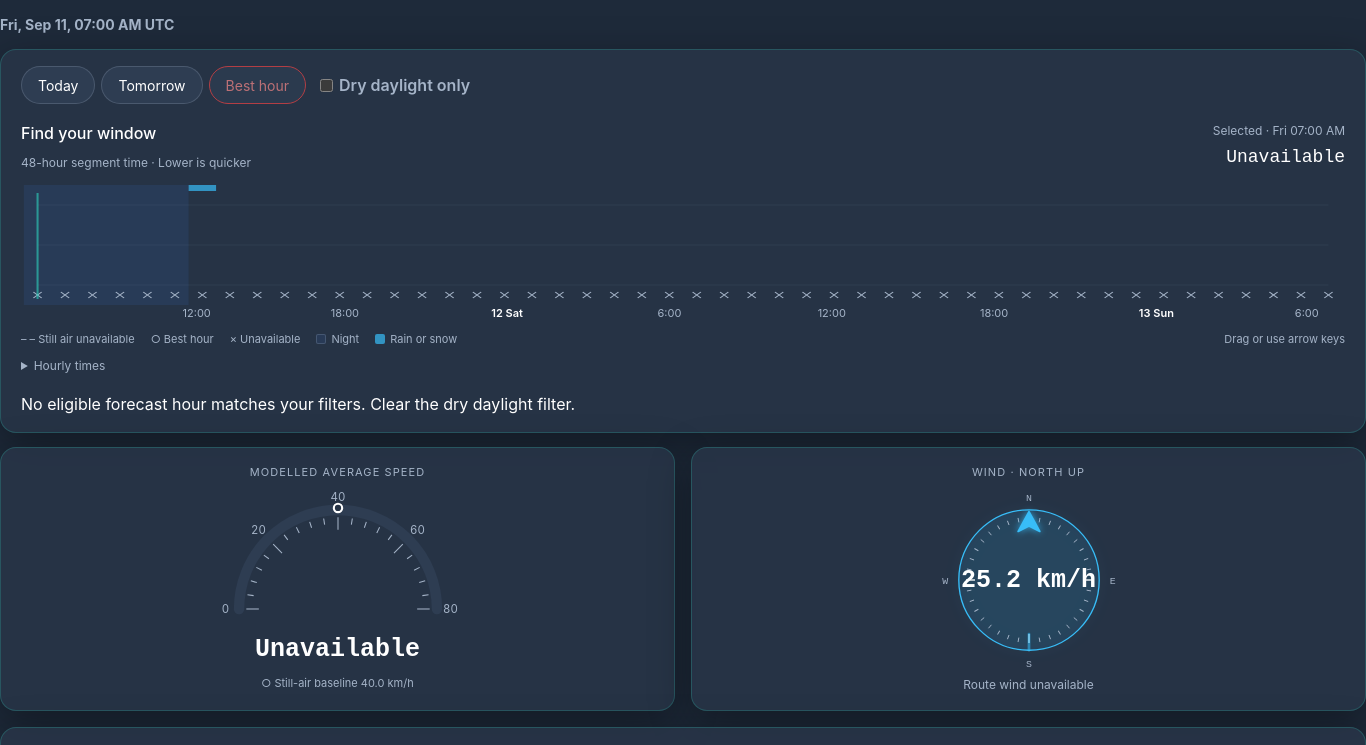
Test: hourly table: rain and night are named
Step 1. Click the heading "Hourly times" → (70, 366), box [34,358,105,374]
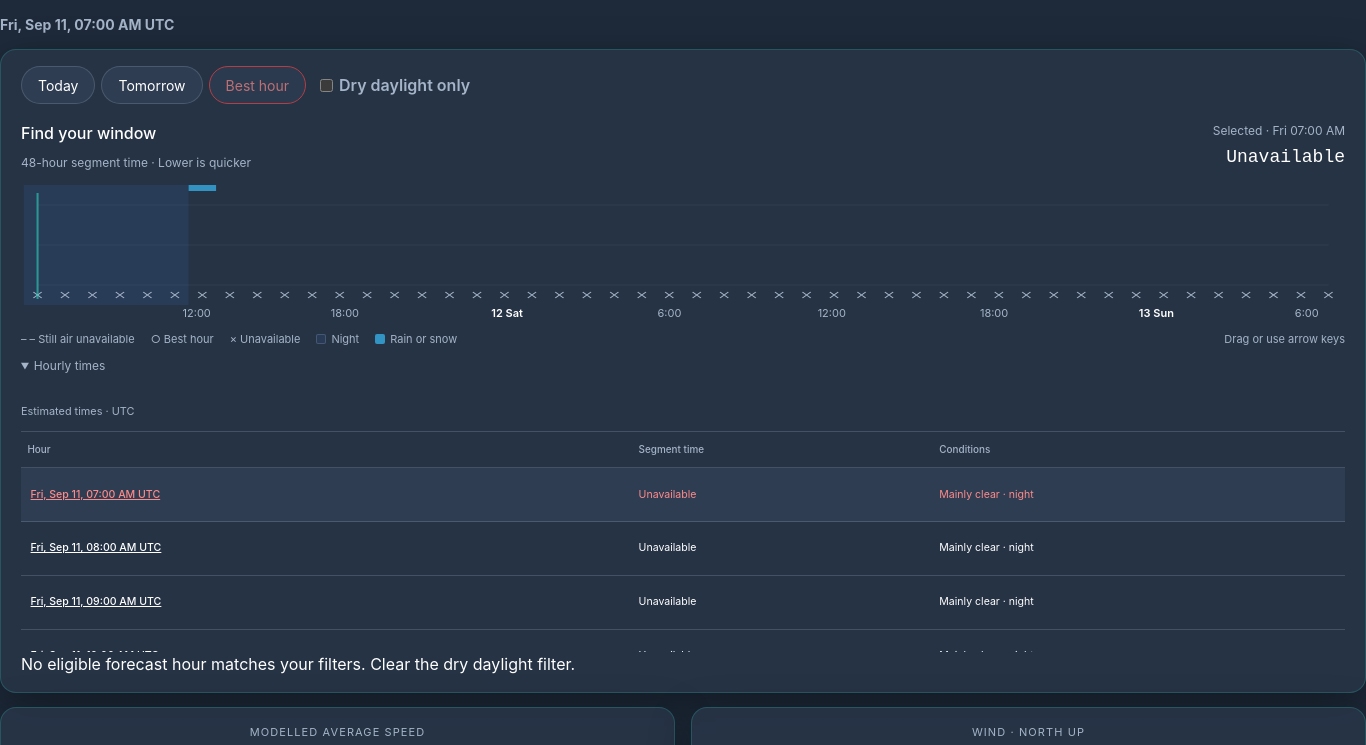
Check: the 1st cell "Mainly clear · night" is shown, box [933,468,1345,522]
